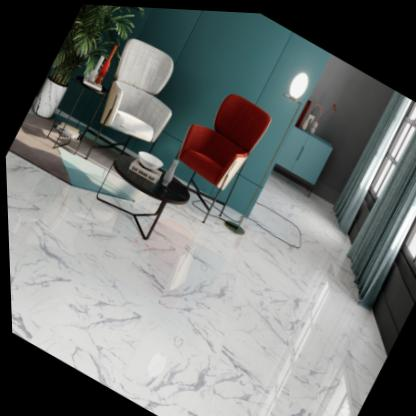Ceramic floor: (5, 152, 384, 416), (7, 113, 92, 184), (86, 145, 116, 169)
Chair: (68, 26, 198, 186), (150, 73, 278, 228)
Curtains: (345, 120, 416, 306), (331, 86, 412, 231)
Lamp: (209, 60, 322, 238)
Sideboard: (273, 123, 332, 194)
